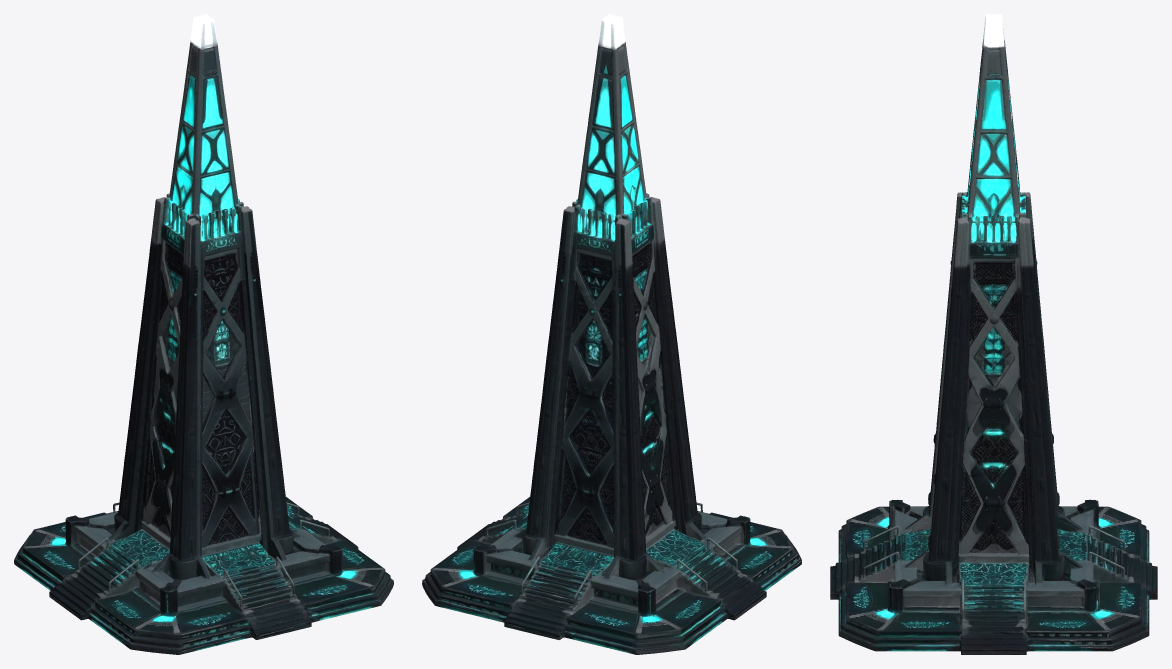
The model's file is city_orai_tower_draco.glb.
3 views of the same model, side by side, from view 1: azimuth 30°, elevation 25°; view 2: azimuth 150°, elevation 25°; view 3: azimuth 270°, elevation 25° (orthographic). The views are drawn at different scales.
Size of the model in its own units: 0.9912 by 1.9 by 0.9909.
1 material, 1 textured.
